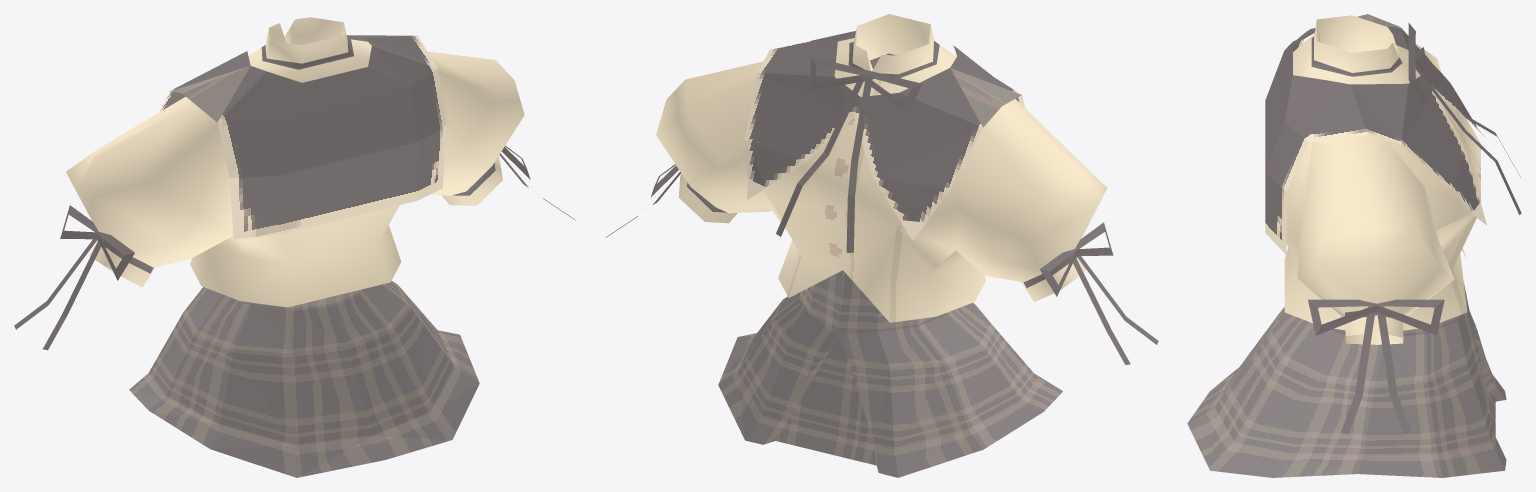
The model's file is ps2_save-icons_memoriesoffduet-1st2ndstories-revised.glb.
The picture shows the model from 3 angles, left to right: view 1: azimuth 30°, elevation 25°; view 2: azimuth 150°, elevation 25°; view 3: azimuth 270°, elevation 25°; orthographic projection. The views are drawn at different scales.
Visible parts, largest first — view 1: icon.ico; view 2: icon.ico; view 3: icon.ico.
Boxes of the visible parts, x1,y1,x2,y2 form: icon.ico: [14, 17, 575, 477]; icon.ico: [606, 14, 1158, 477]; icon.ico: [1187, 14, 1521, 477].
Bounding box in the file's own units: 4.68 × 3.21 × 2.43.
1 material, 1 textured.
